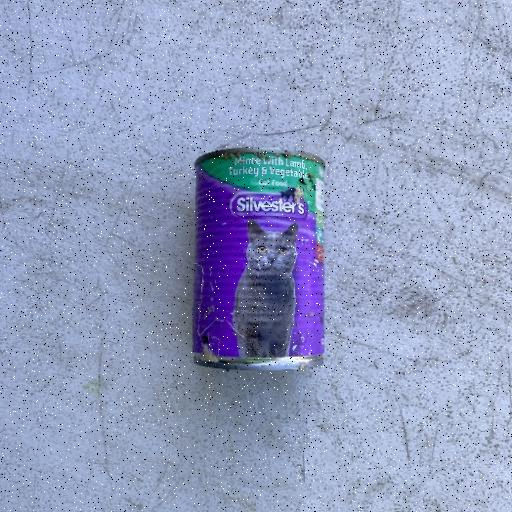Metal: (190, 146, 328, 370)
